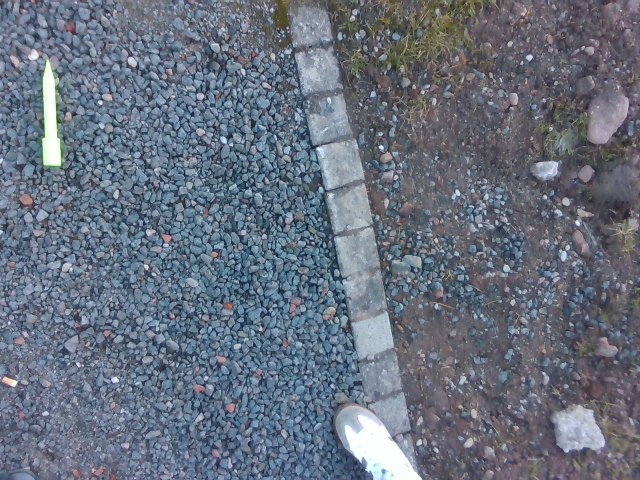Probe: (37, 55, 63, 171)
